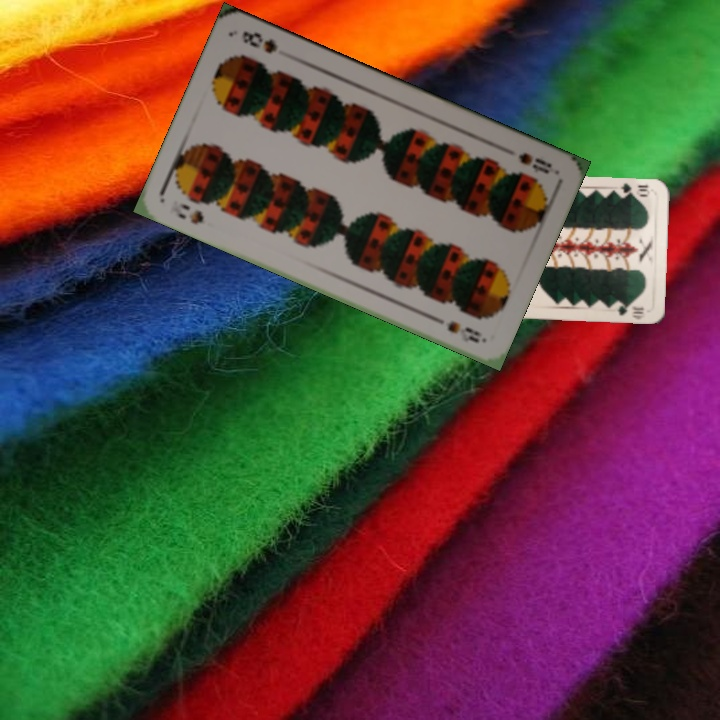G10: (617, 179, 652, 199)
S8: (514, 148, 554, 177), (173, 199, 207, 227)
